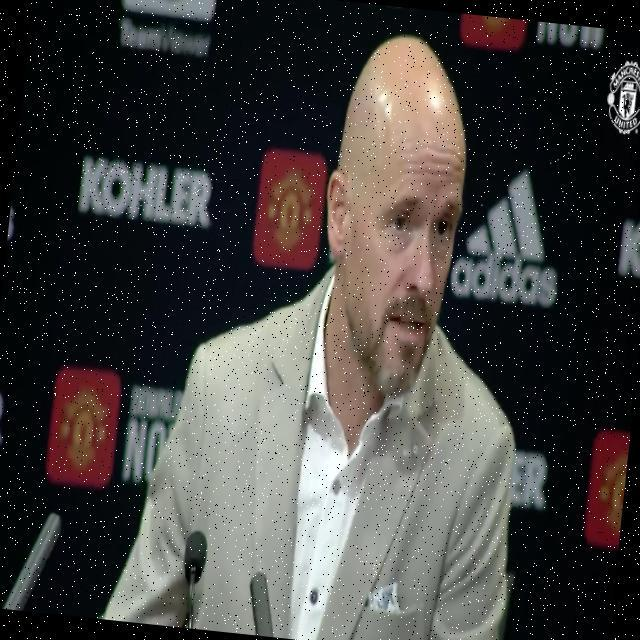Adidas: (447, 141, 571, 310)
Kohler: (77, 152, 217, 228)
TeamViewer: (116, 0, 215, 57)
